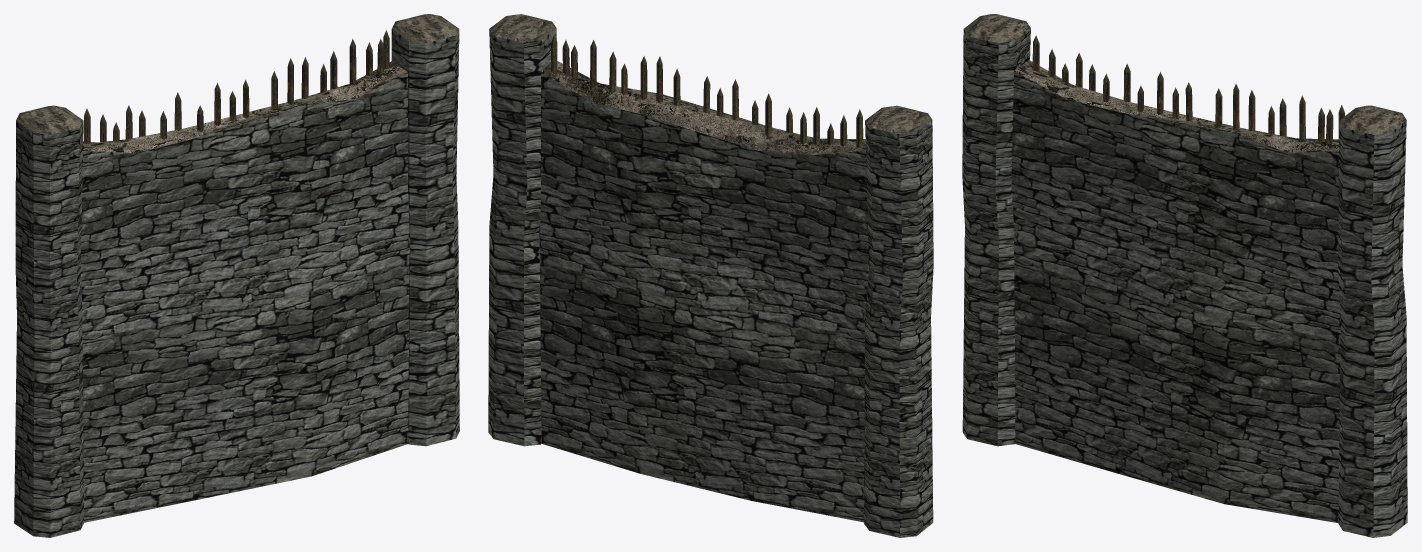
The model's file is mur2.glb.
3 renders of one model, left to right at view 1: azimuth 30°, elevation 25°; view 2: azimuth 150°, elevation 25°; view 3: azimuth 330°, elevation 25°, orthographic.
Parts seen in each view (by area): view 1: zengin; view 2: zengin; view 3: zengin.
Boxes of the visible parts, x1,y1,x2,y2 form: zengin: [14, 14, 459, 537]; zengin: [488, 14, 933, 537]; zengin: [962, 14, 1407, 537].
Bounding box in the file's own units: 9.06 × 8.28 × 1.2.
4 materials, 4 textured.
